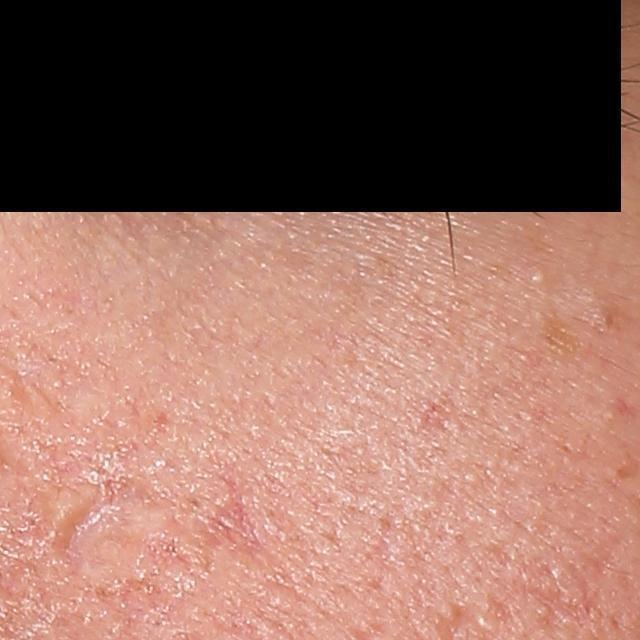atrophic_scar: (45, 496, 125, 568), (213, 473, 261, 554)
comedo: (528, 268, 549, 286)
melasma: (539, 315, 586, 356)
